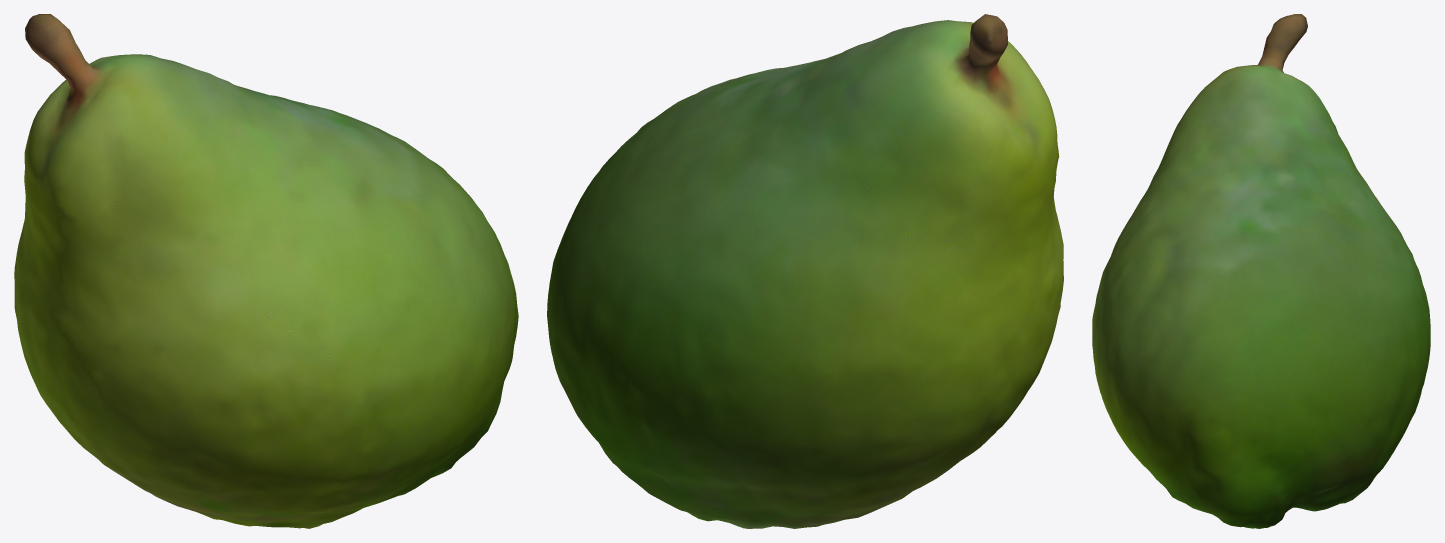
The model's file is pear.glb.
3 views of the same model, side by side, from view 1: azimuth 30°, elevation 25°; view 2: azimuth 150°, elevation 25°; view 3: azimuth 270°, elevation 25° (orthographic). The views are drawn at different scales.
Parts seen in each view (by area): view 1: Mesh1; view 2: Mesh1; view 3: Mesh1.
Boxes of the visible parts, x1,y1,x2,y2 form: Mesh1: (14,14,518,528); Mesh1: (547,14,1063,528); Mesh1: (1092,14,1430,528).
Bounding box in the file's own units: 1.07 × 1.2 × 0.9229.
1 material, 1 textured.
